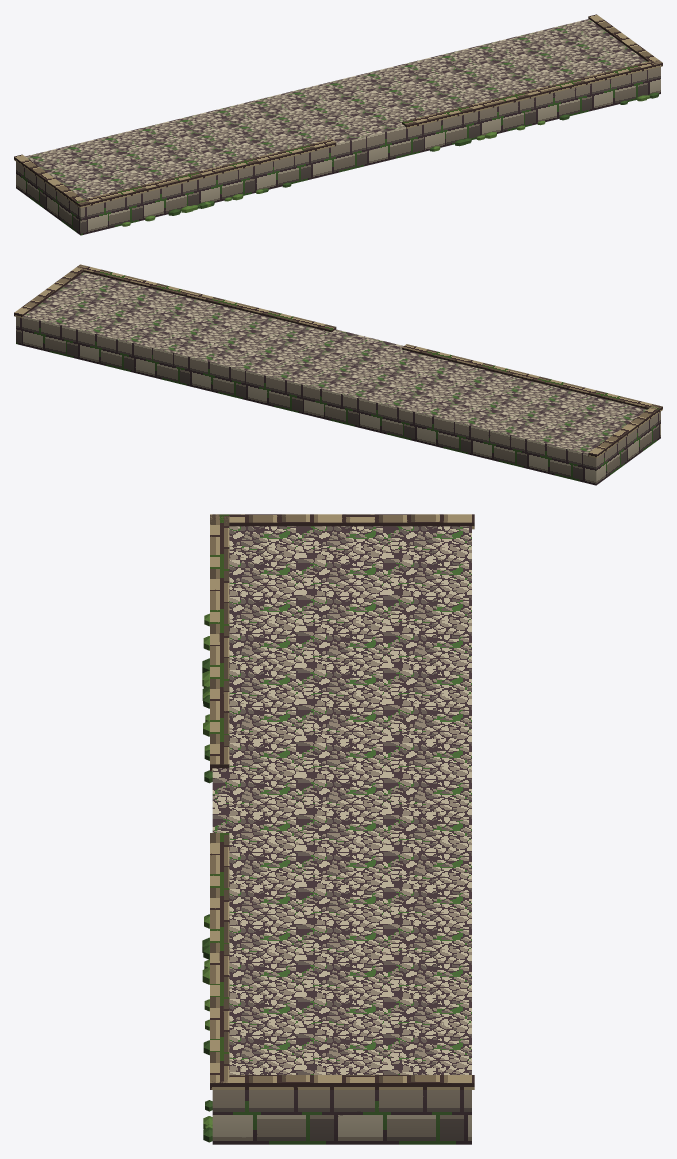
Rendered from scene_lantern_walk.glb.
The picture shows the model from 3 angles, top to bottom: view 1: azimuth 30°, elevation 25°; view 2: azimuth 150°, elevation 25°; view 3: azimuth 270°, elevation 25°; orthographic projection. The views are drawn at different scales.
Parts seen in each view (by area): view 1: scene_lantern_walk; view 2: scene_lantern_walk; view 3: scene_lantern_walk.
Part boxes in pixels (x1,y1,x2,y2): scene_lantern_walk: [14, 14, 662, 235]; scene_lantern_walk: [14, 264, 662, 485]; scene_lantern_walk: [202, 514, 474, 1144].
Bounding box in the file's own units: 24.9 × 1.37 × 5.04.
3 materials, 2 textured.
